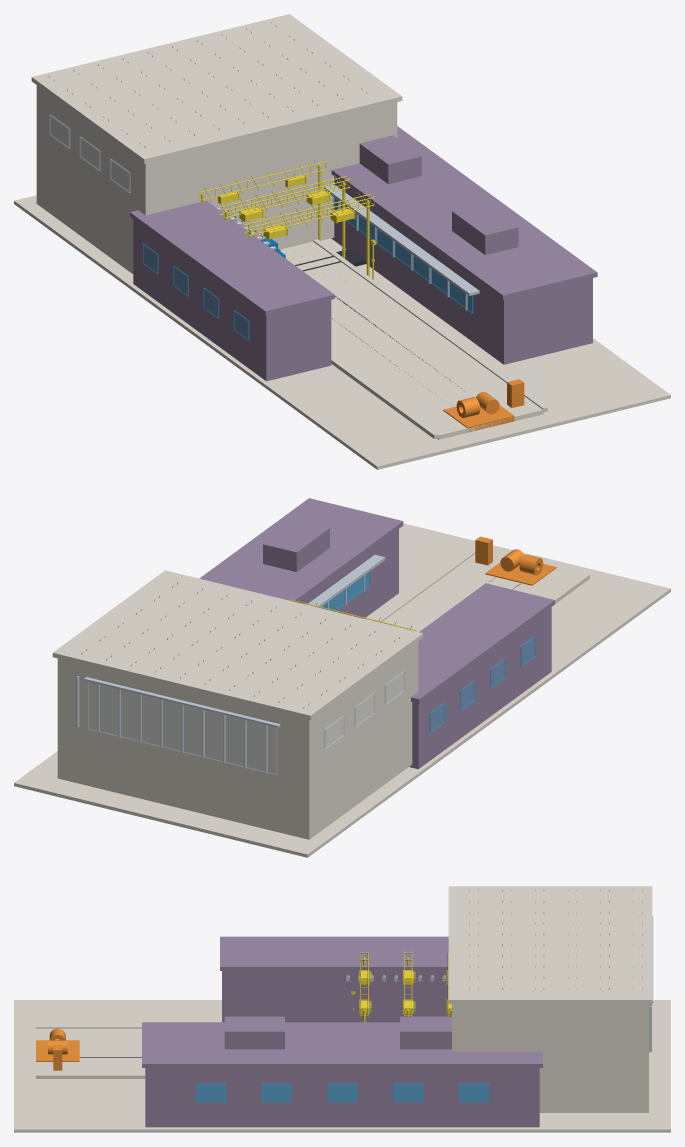
Rendered from hq_13_safety_l4.glb.
The picture shows the model from 3 angles, top to bottom: view 1: azimuth 30°, elevation 25°; view 2: azimuth 150°, elevation 25°; view 3: azimuth 270°, elevation 25°; orthographic projection. The views are drawn at different scales.
Visible parts, largest first — view 1: GEO_Safety_Crash_Arena_Hall_Shell, GEO_Safety_Telemetry_Office_Halls, GEO_Safety_Foundation_Plinth, GEO_Safety_Dummy_Lab_Shell, GEO_Safety_Crash_Runway_Hall, GEO_Safety_Photogrammetry_Lighting_Truss, GEO_Safety_Observation_Mullions, GEO_Safety_Runway_Tow_Winch, GEO_Safety_Observation_Glass, GEO_Safety_Observation_Curtain_Glass, GEO_Safety_Dummy_Lab_Windows; view 2: GEO_Safety_Crash_Arena_Hall_Shell, GEO_Safety_Foundation_Plinth, GEO_Safety_Dummy_Lab_Shell, GEO_Safety_Telemetry_Office_Halls, GEO_Safety_Observation_Curtain_Glass, GEO_Safety_Crash_Runway_Hall, GEO_Safety_Arena_Mullions, GEO_Safety_Runway_Tow_Winch, GEO_Safety_Dummy_Lab_Windows, GEO_Safety_Observation_Mullions, GEO_Safety_Observation_Glass; view 3: GEO_Safety_Crash_Arena_Hall_Shell, GEO_Safety_Telemetry_Office_Halls, GEO_Safety_Foundation_Plinth, GEO_Safety_Dummy_Lab_Shell, GEO_Safety_Crash_Runway_Hall, GEO_Safety_Observation_Glass, GEO_Safety_Photogrammetry_Lighting_Truss, GEO_Safety_Runway_Tow_Winch.
Part boxes in pixels (x1,y1,x2,y2): GEO_Safety_Crash_Arena_Hall_Shell: (31, 14, 402, 273); GEO_Safety_Telemetry_Office_Halls: (331, 126, 597, 364); GEO_Safety_Foundation_Plinth: (14, 195, 670, 469); GEO_Safety_Dummy_Lab_Shell: (130, 200, 334, 381); GEO_Safety_Crash_Runway_Hall: (280, 239, 547, 439); GEO_Safety_Photogrammetry_Lighting_Truss: (198, 160, 374, 276); GEO_Safety_Observation_Mullions: (324, 184, 479, 310); GEO_Safety_Runway_Tow_Winch: (443, 379, 524, 431); GEO_Safety_Observation_Glass: (333, 197, 473, 313); GEO_Safety_Observation_Curtain_Glass: (49, 114, 130, 192); GEO_Safety_Dummy_Lab_Windows: (143, 244, 249, 340); GEO_Safety_Crash_Arena_Hall_Shell: (52, 570, 423, 839); GEO_Safety_Foundation_Plinth: (14, 523, 670, 857); GEO_Safety_Dummy_Lab_Shell: (409, 583, 554, 769); GEO_Safety_Telemetry_Office_Halls: (199, 498, 403, 618); GEO_Safety_Observation_Curtain_Glass: (88, 671, 405, 775); GEO_Safety_Crash_Runway_Hall: (375, 548, 589, 631); GEO_Safety_Arena_Mullions: (76, 676, 280, 773); GEO_Safety_Runway_Tow_Winch: (475, 536, 556, 585); GEO_Safety_Dummy_Lab_Windows: (429, 636, 535, 732); GEO_Safety_Observation_Mullions: (306, 555, 385, 609); GEO_Safety_Observation_Glass: (321, 571, 370, 611); GEO_Safety_Crash_Arena_Hall_Shell: (448, 886, 652, 1112); GEO_Safety_Telemetry_Office_Halls: (142, 1016, 542, 1127); GEO_Safety_Foundation_Plinth: (14, 1000, 670, 1132); GEO_Safety_Dummy_Lab_Shell: (220, 936, 450, 1022); GEO_Safety_Crash_Runway_Hall: (36, 1025, 145, 1078); GEO_Safety_Observation_Glass: (195, 1083, 489, 1102); GEO_Safety_Photogrammetry_Lighting_Truss: (359, 951, 451, 1022); GEO_Safety_Runway_Tow_Winch: (36, 1028, 79, 1070).
Size of what is drawn, in the model's own units: 28 by 12.29 by 60.
